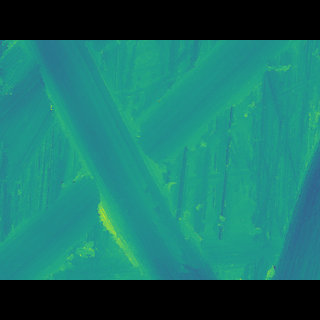Loch: (0, 69, 299, 250)
